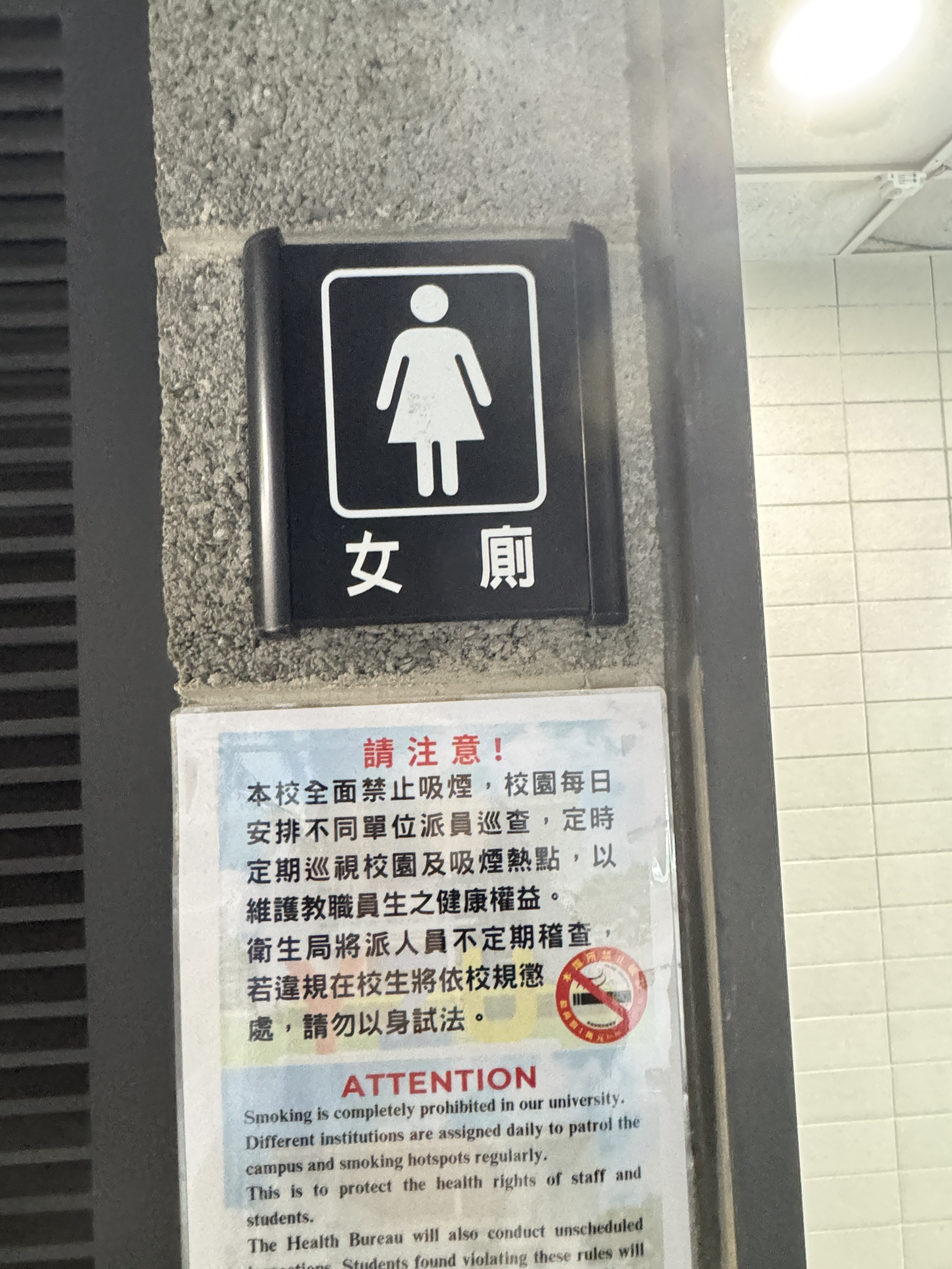toilet_sign: (190, 184, 651, 654), (224, 212, 634, 632)
